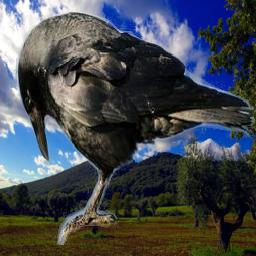Crow: (16, 9, 254, 245)
